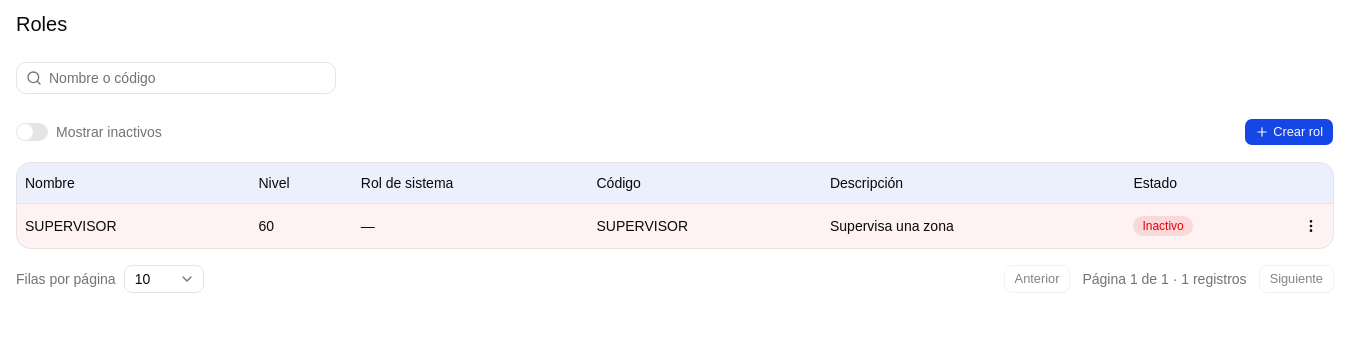
AppRoleListPage — roles de sistema y ciclo de vida › con SUPERADMIN, un rol retirado sí ofrece reactivar
The width and height of the screenshot is (1351, 357).
What coordinates should you click on to do the following:
click the button named "Acciones de la fila"
I would click on:
 (1311, 226)
Its box is [1297,212,1325,240].
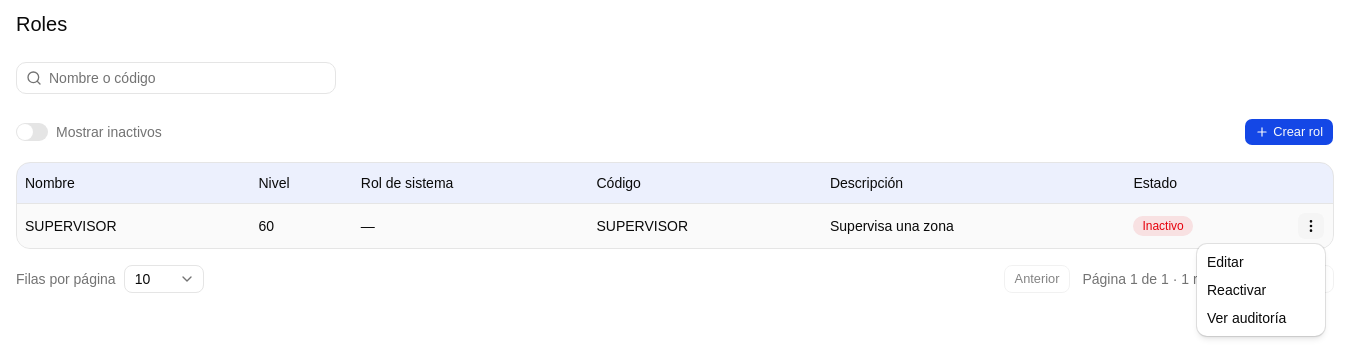
Result: the menu item "Reactivar" is shown at [1207,282,1266,298]
